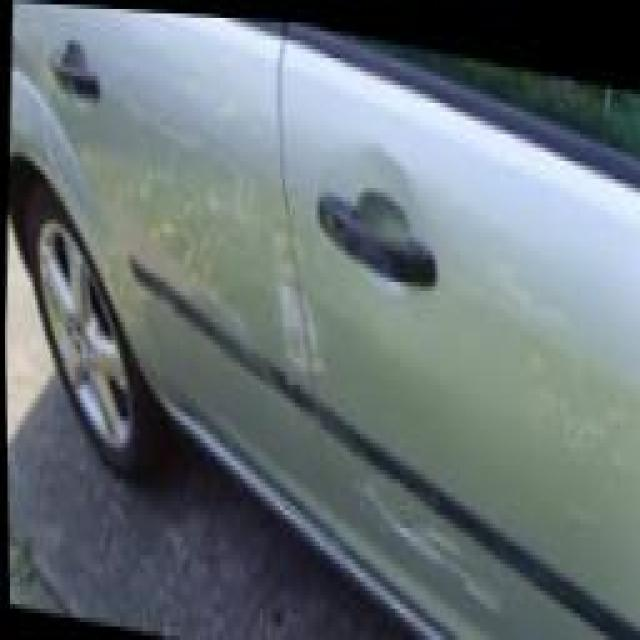Door: (290, 269, 639, 640), (58, 49, 335, 456)
